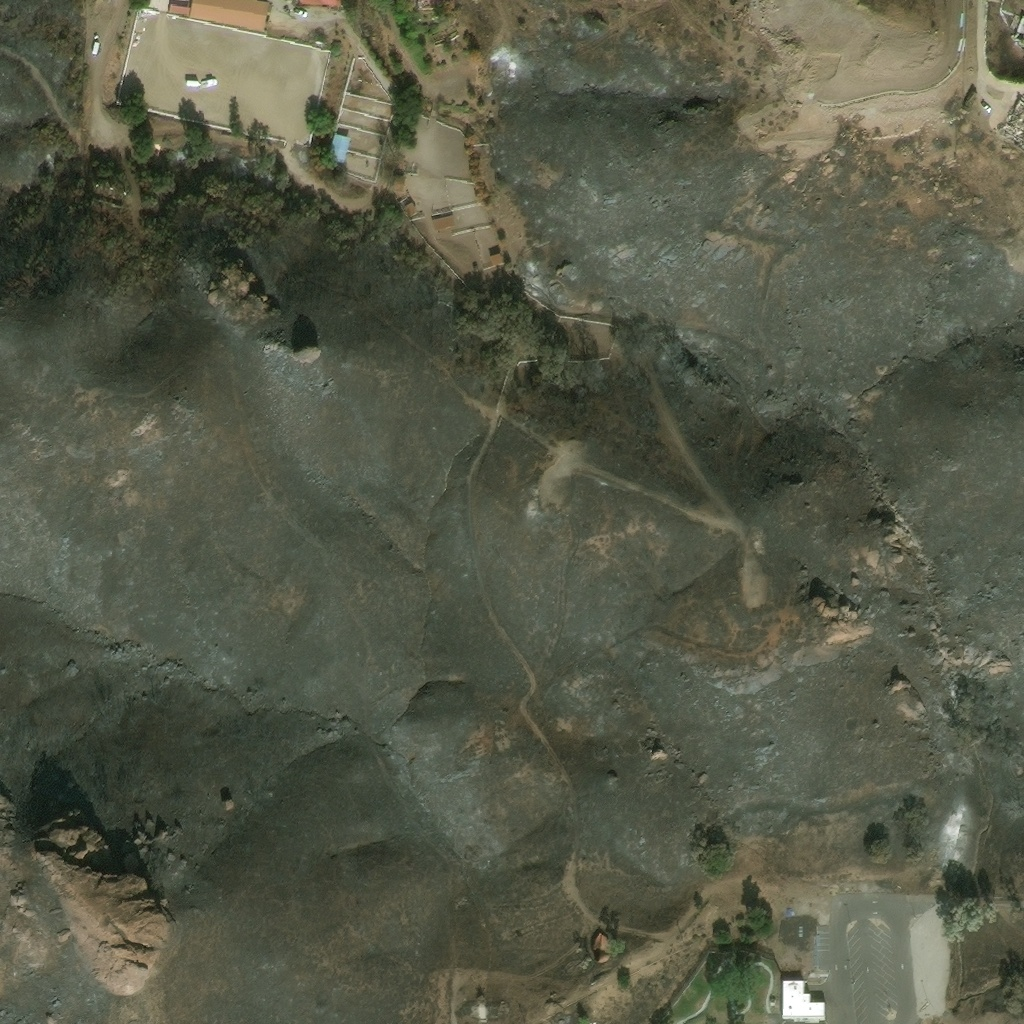0 no-damage: (188, 0, 272, 34), (781, 979, 824, 1023), (327, 133, 351, 165), (433, 213, 456, 231), (589, 938, 610, 954), (167, 3, 189, 17), (403, 202, 417, 216), (489, 252, 503, 265), (447, 31, 459, 43), (434, 38, 445, 47)
3 destroyed: (999, 99, 1023, 145), (963, 89, 977, 108)
4 un-classified: (410, 0, 437, 20), (1013, 15, 1023, 48), (293, 0, 341, 6), (263, 24, 279, 37)
